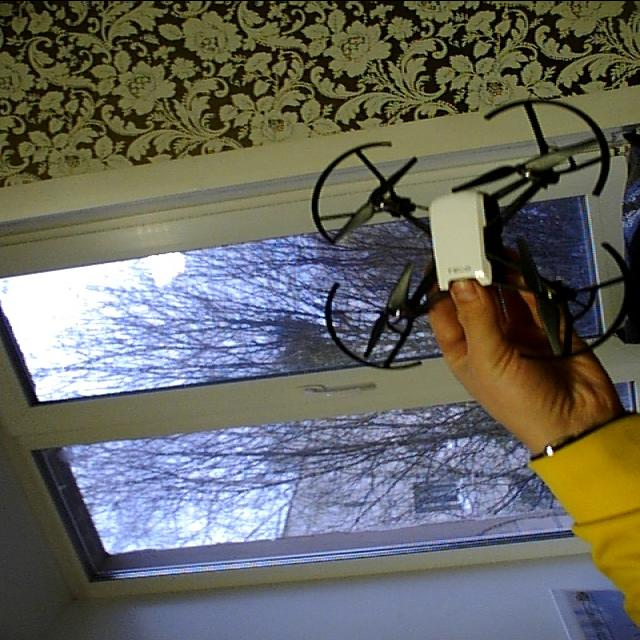drone: (304, 88, 640, 374)
